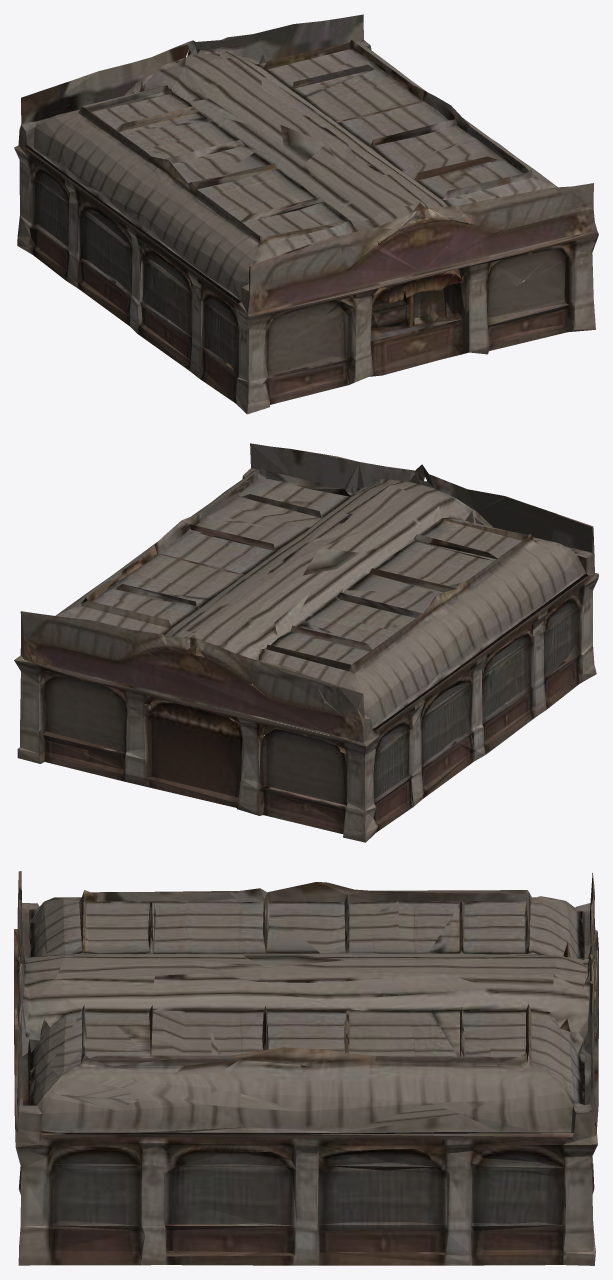
File: park_arcade_hall_1117.glb
The picture shows the model from 3 angles, top to bottom: view 1: azimuth 30°, elevation 25°; view 2: azimuth 150°, elevation 25°; view 3: azimuth 270°, elevation 25°; orthographic projection. The views are drawn at different scales.
Parts seen in each view (by area): view 1: world; view 2: world; view 3: world.
Boxes of the visible parts, left/top/right/bottom form: world: left=14, top=14, right=598, bottom=414; world: left=14, top=443, right=598, bottom=842; world: left=14, top=871, right=598, bottom=1265.
Bounding box in the file's own units: 2.18 × 1 × 2.51.
Materials: 1 (1 with a texture image).
